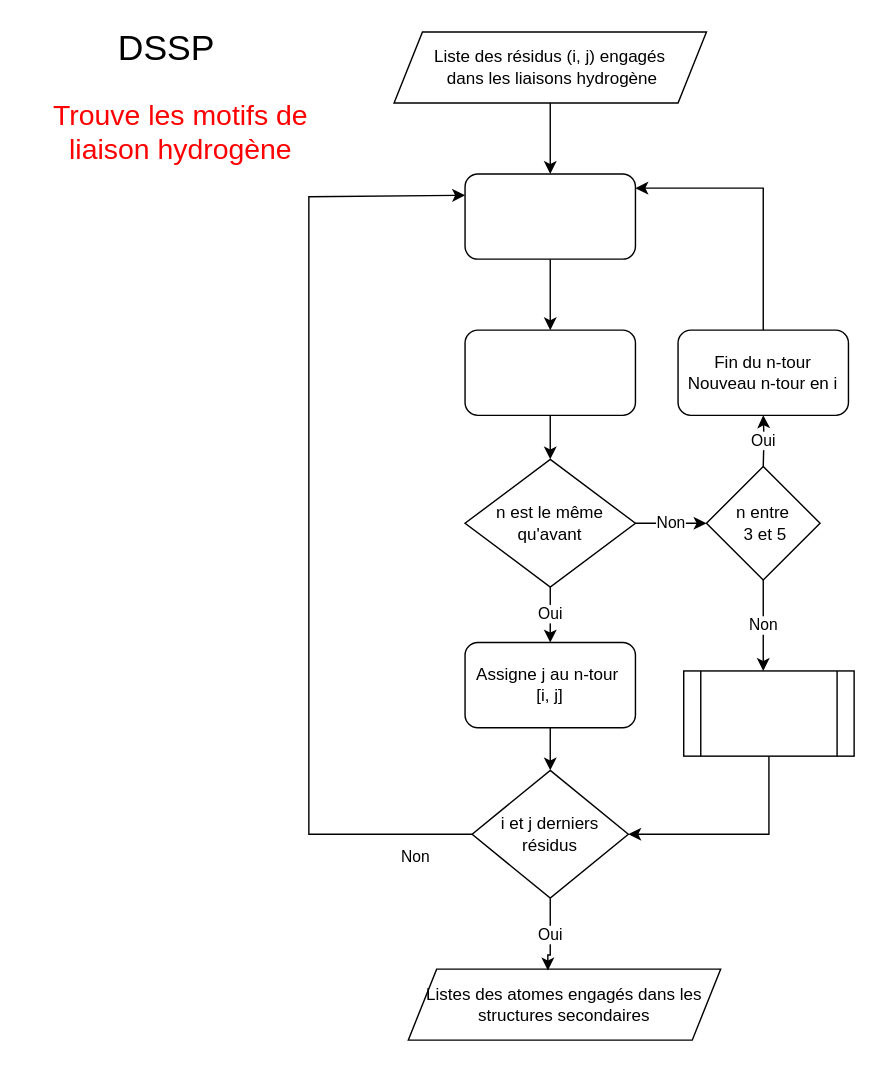
Some shapes in this 879 by 1065 pixel diagram are drawn without their labels. The shapes that lost their labels are listed below. From the top down, each one's centre as x and y in pixels, then its label:
the point at 549,216: Indexes ind_i et ind_j suivants
the point at 549,372: n = ind_i - ind_j
the point at 768,713: Cherche autres structures secondaires
